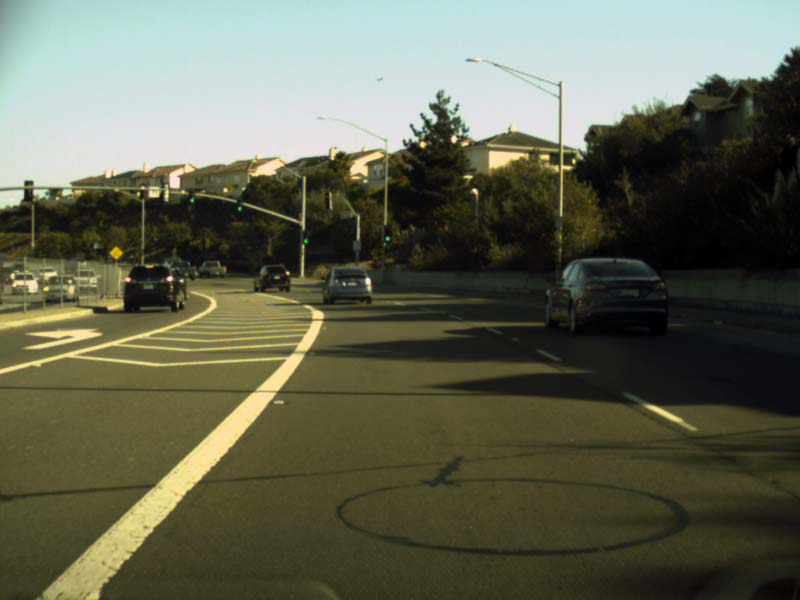Green: (384, 226, 391, 241), (236, 198, 242, 211), (302, 232, 308, 244), (189, 189, 194, 203)
Red: (139, 184, 145, 198)
